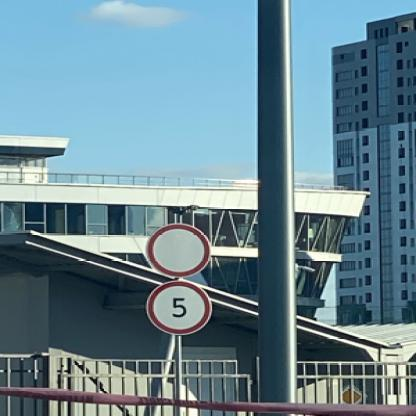speedlimit: (142, 281, 210, 334)
